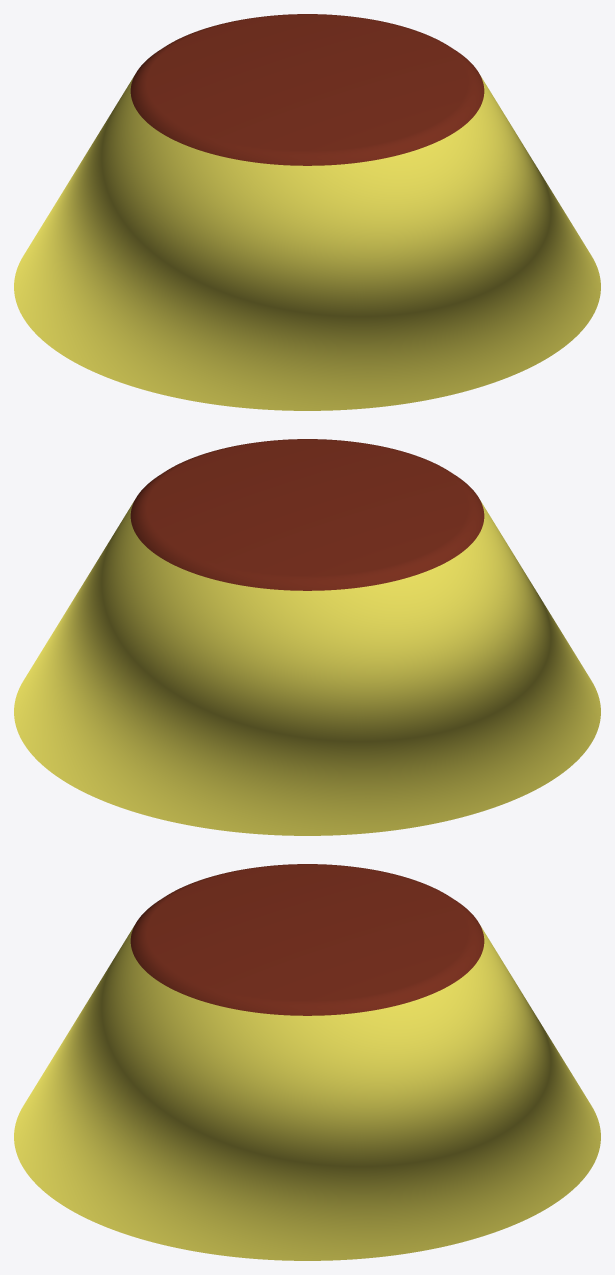
Rendered from pudding.fbx.
3 views of the same model, one above another, from view 1: azimuth 30°, elevation 25°; view 2: azimuth 150°, elevation 25°; view 3: azimuth 270°, elevation 25° (orthographic).
Visible parts, largest first — view 1: Cylinder; view 2: Cylinder; view 3: Cylinder.
Boxes of the visible parts, x1,y1,x2,y2 form: Cylinder: (14, 14, 600, 410); Cylinder: (14, 439, 600, 835); Cylinder: (14, 864, 600, 1260).
Bounding box in the file's own units: 200 × 76.66 × 200.
